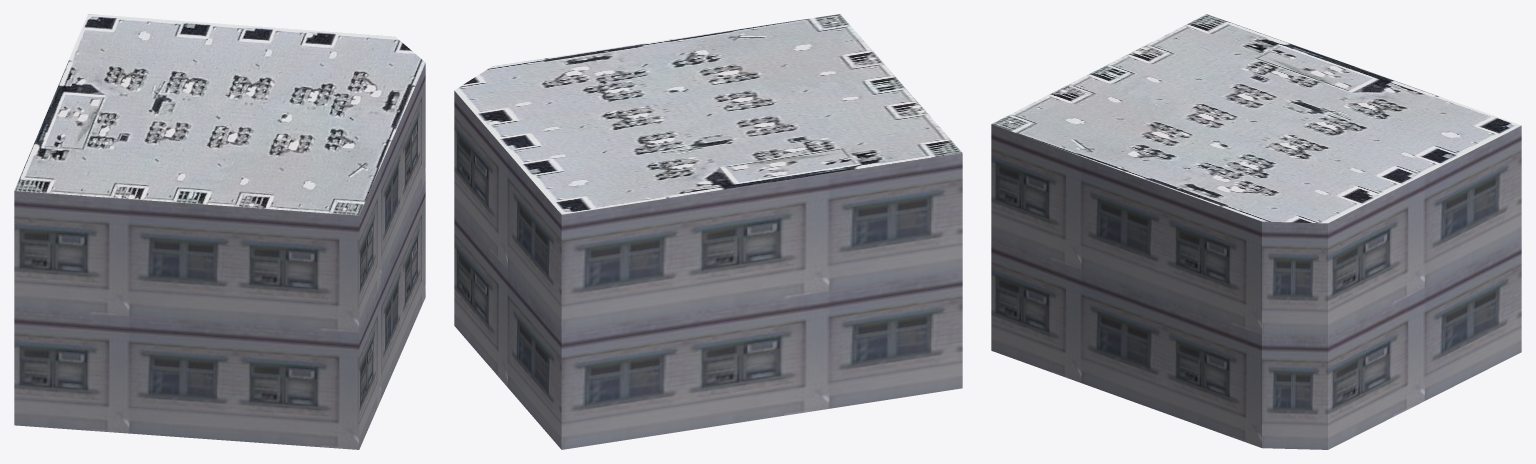
The model's file is ResTex__502.fbx.
3 renders of one model, left to right at view 1: azimuth 30°, elevation 25°; view 2: azimuth 150°, elevation 25°; view 3: azimuth 270°, elevation 25°, orthographic. The views are drawn at different scales.
Visible parts, largest first — view 1: CityEngineMaterial_1_m, CityEngineMaterial_2_m; view 2: CityEngineMaterial_1_m, CityEngineMaterial_2_m; view 3: CityEngineMaterial_1_m, CityEngineMaterial_2_m.
Part boxes in pixels (x1,y1,x2,y2): CityEngineMaterial_1_m: (14, 63, 425, 449); CityEngineMaterial_2_m: (14, 14, 425, 215); CityEngineMaterial_1_m: (454, 91, 962, 449); CityEngineMaterial_2_m: (454, 14, 962, 214); CityEngineMaterial_1_m: (991, 124, 1521, 449); CityEngineMaterial_2_m: (991, 14, 1521, 223).
Size of the model in its own units: 11.89 by 6 by 12.73.
Materials: 2 (2 with a texture image).
